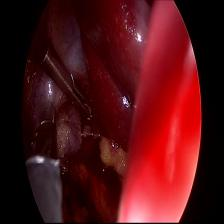Grasper: (68, 63, 98, 122), (42, 94, 60, 138)
